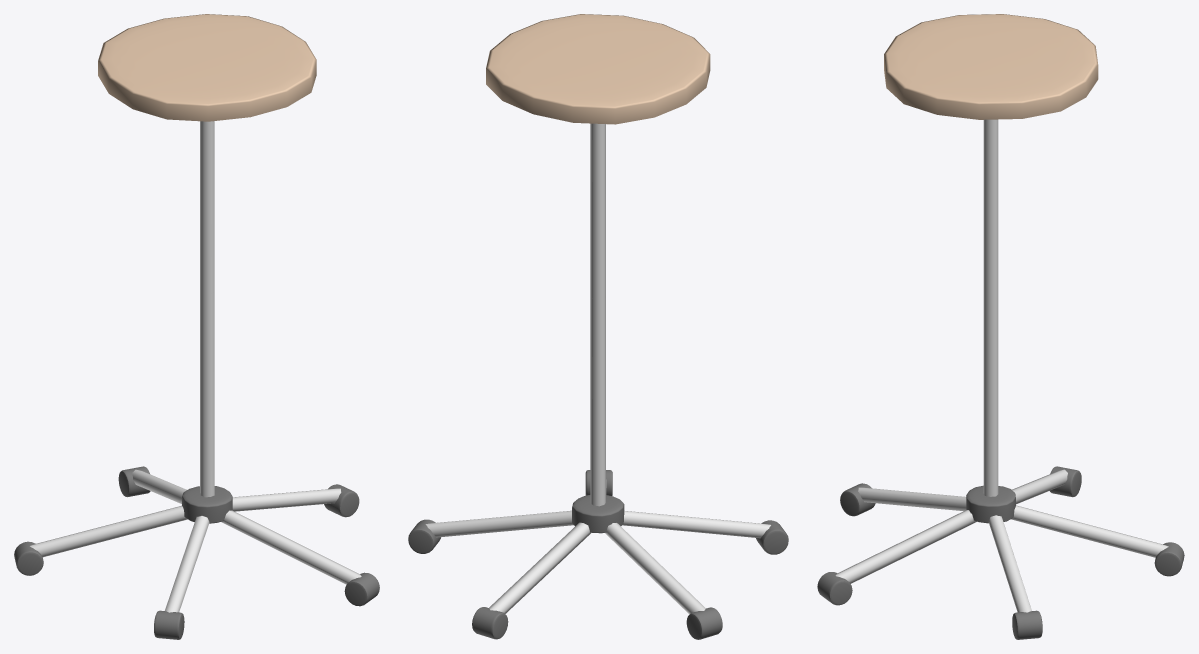
Rendered from HighChair.fbx.
3 renders of one model, left to right at view 1: azimuth 30°, elevation 25°; view 2: azimuth 150°, elevation 25°; view 3: azimuth 270°, elevation 25°, orthographic.
Parts seen in each view (by area): view 1: HighChair; view 2: HighChair; view 3: HighChair.
Boxes of the visible parts, x1,y1,x2,y2 form: HighChair: (14,14,379,639); HighChair: (408,14,788,639); HighChair: (817,14,1184,639).
Bounding box in the file's own units: 0.7364 × 1.11 × 0.726.
